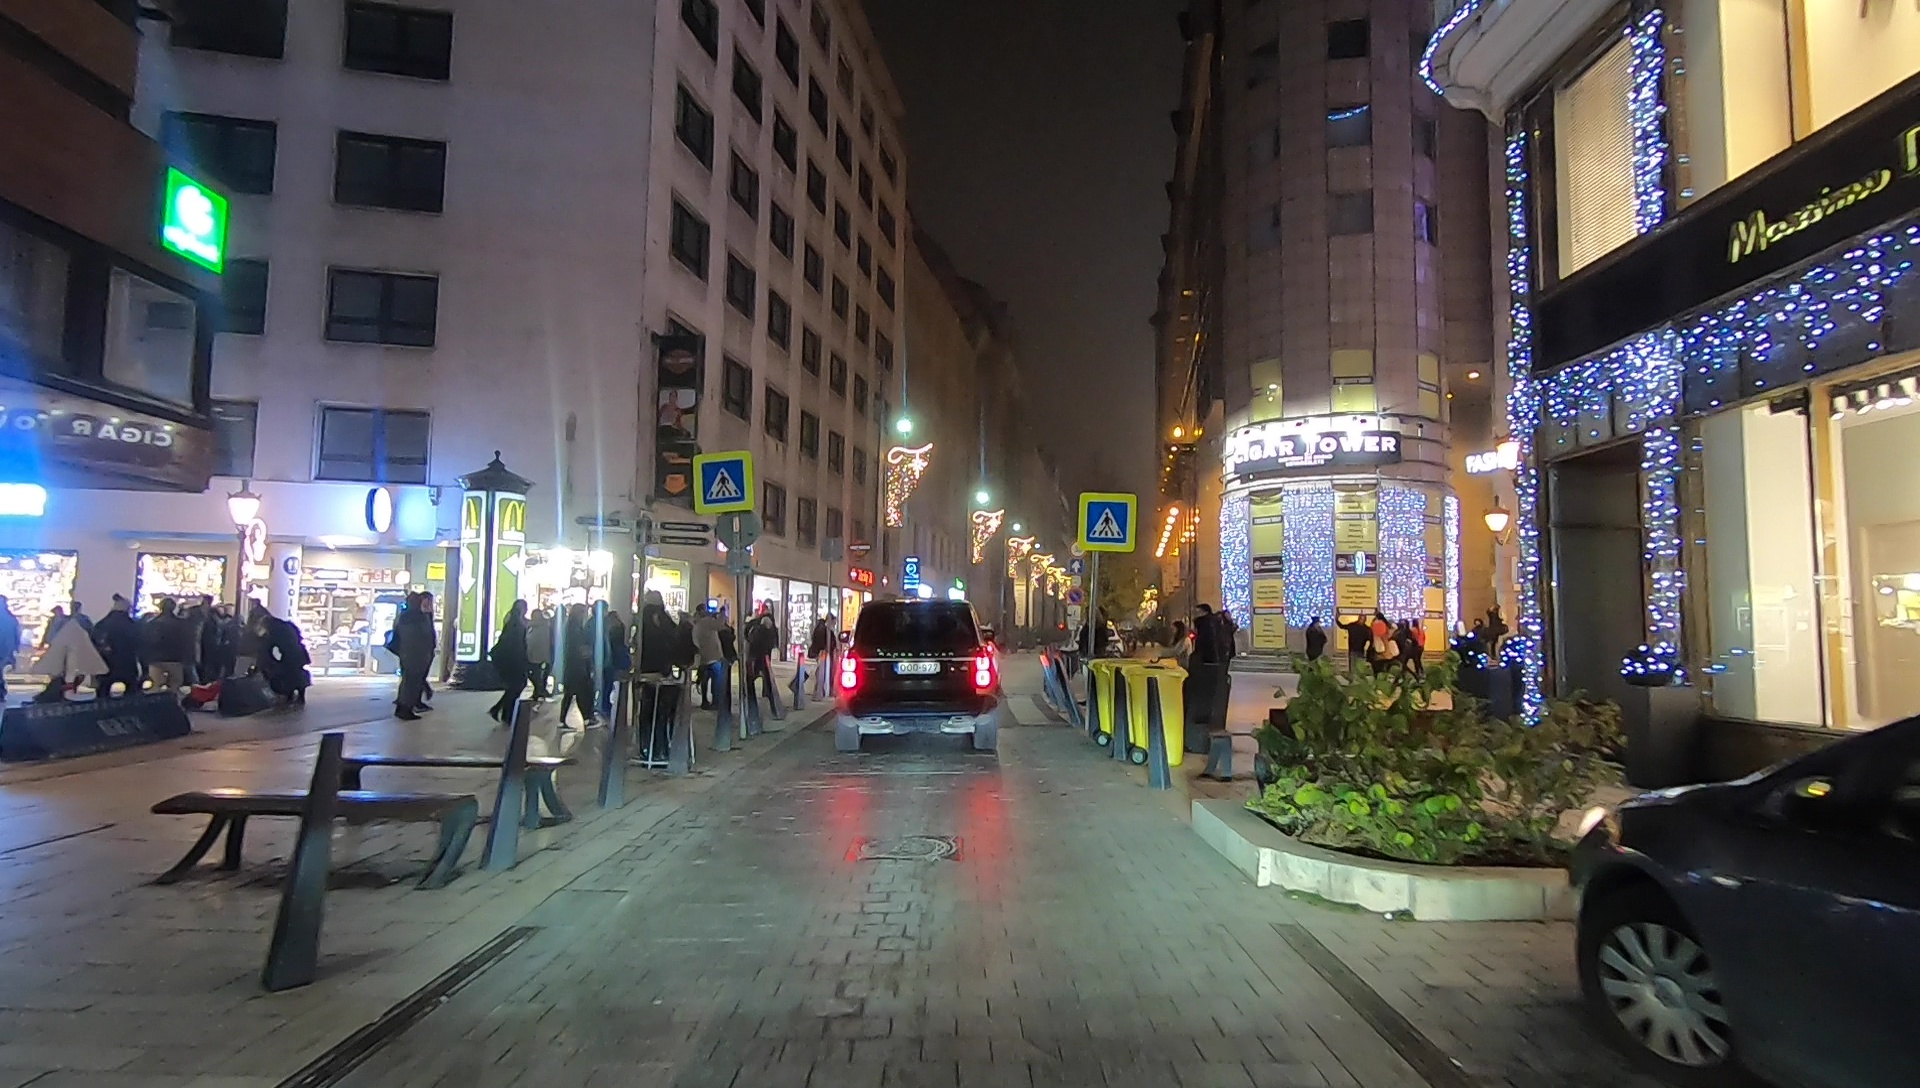person: (640, 593, 687, 756), (557, 600, 600, 732), (393, 590, 435, 720), (1188, 601, 1231, 716), (493, 600, 530, 729), (691, 609, 725, 712), (744, 607, 779, 706), (589, 597, 617, 717), (1335, 612, 1369, 685), (1082, 602, 1108, 696), (529, 608, 551, 705), (1305, 612, 1328, 680), (1371, 608, 1389, 682), (1409, 619, 1427, 683)
